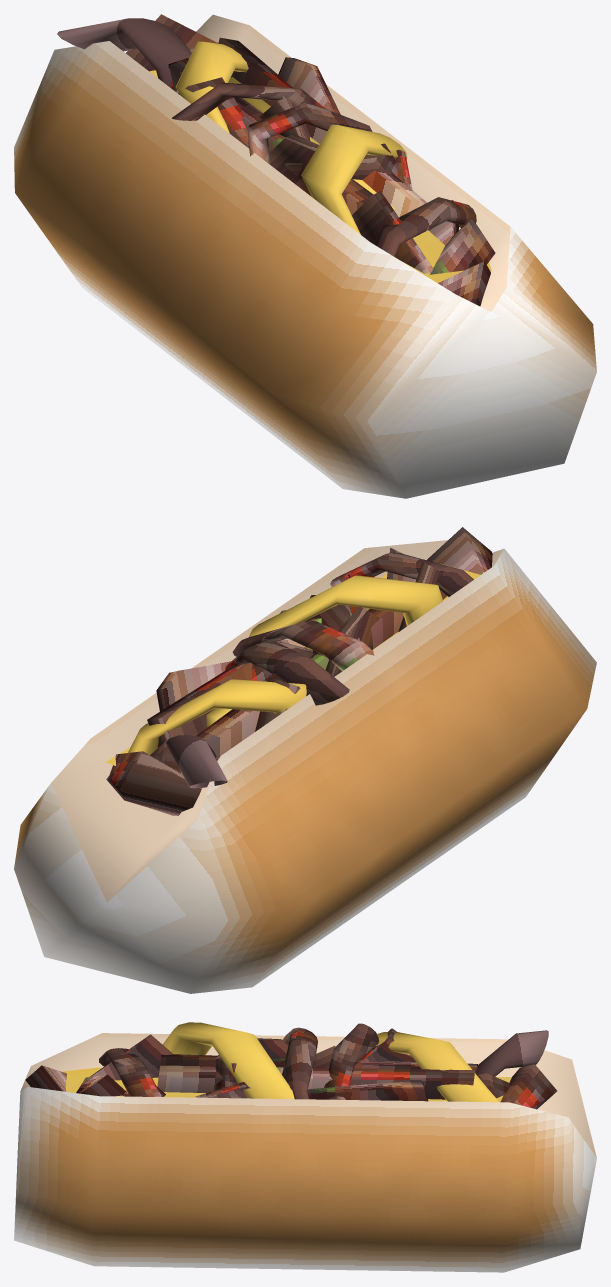
File: HotdogEvolved.fbx
3 views of the same model, one above another, from view 1: azimuth 30°, elevation 25°; view 2: azimuth 150°, elevation 25°; view 3: azimuth 270°, elevation 25° (orthographic). The views are drawn at different scales.
Parts seen in each view (by area): view 1: H_HotDogEvolved; view 2: H_HotDogEvolved; view 3: H_HotDogEvolved.
Boxes of the visible parts, x1=… form: H_HotDogEvolved: x1=14, y1=14, x2=596, y2=498; H_HotDogEvolved: x1=14, y1=527, x2=596, y2=993; H_HotDogEvolved: x1=14, y1=1022, x2=596, y2=1272.
Bounding box in the file's own units: 16.4 × 13.19 × 33.99.
